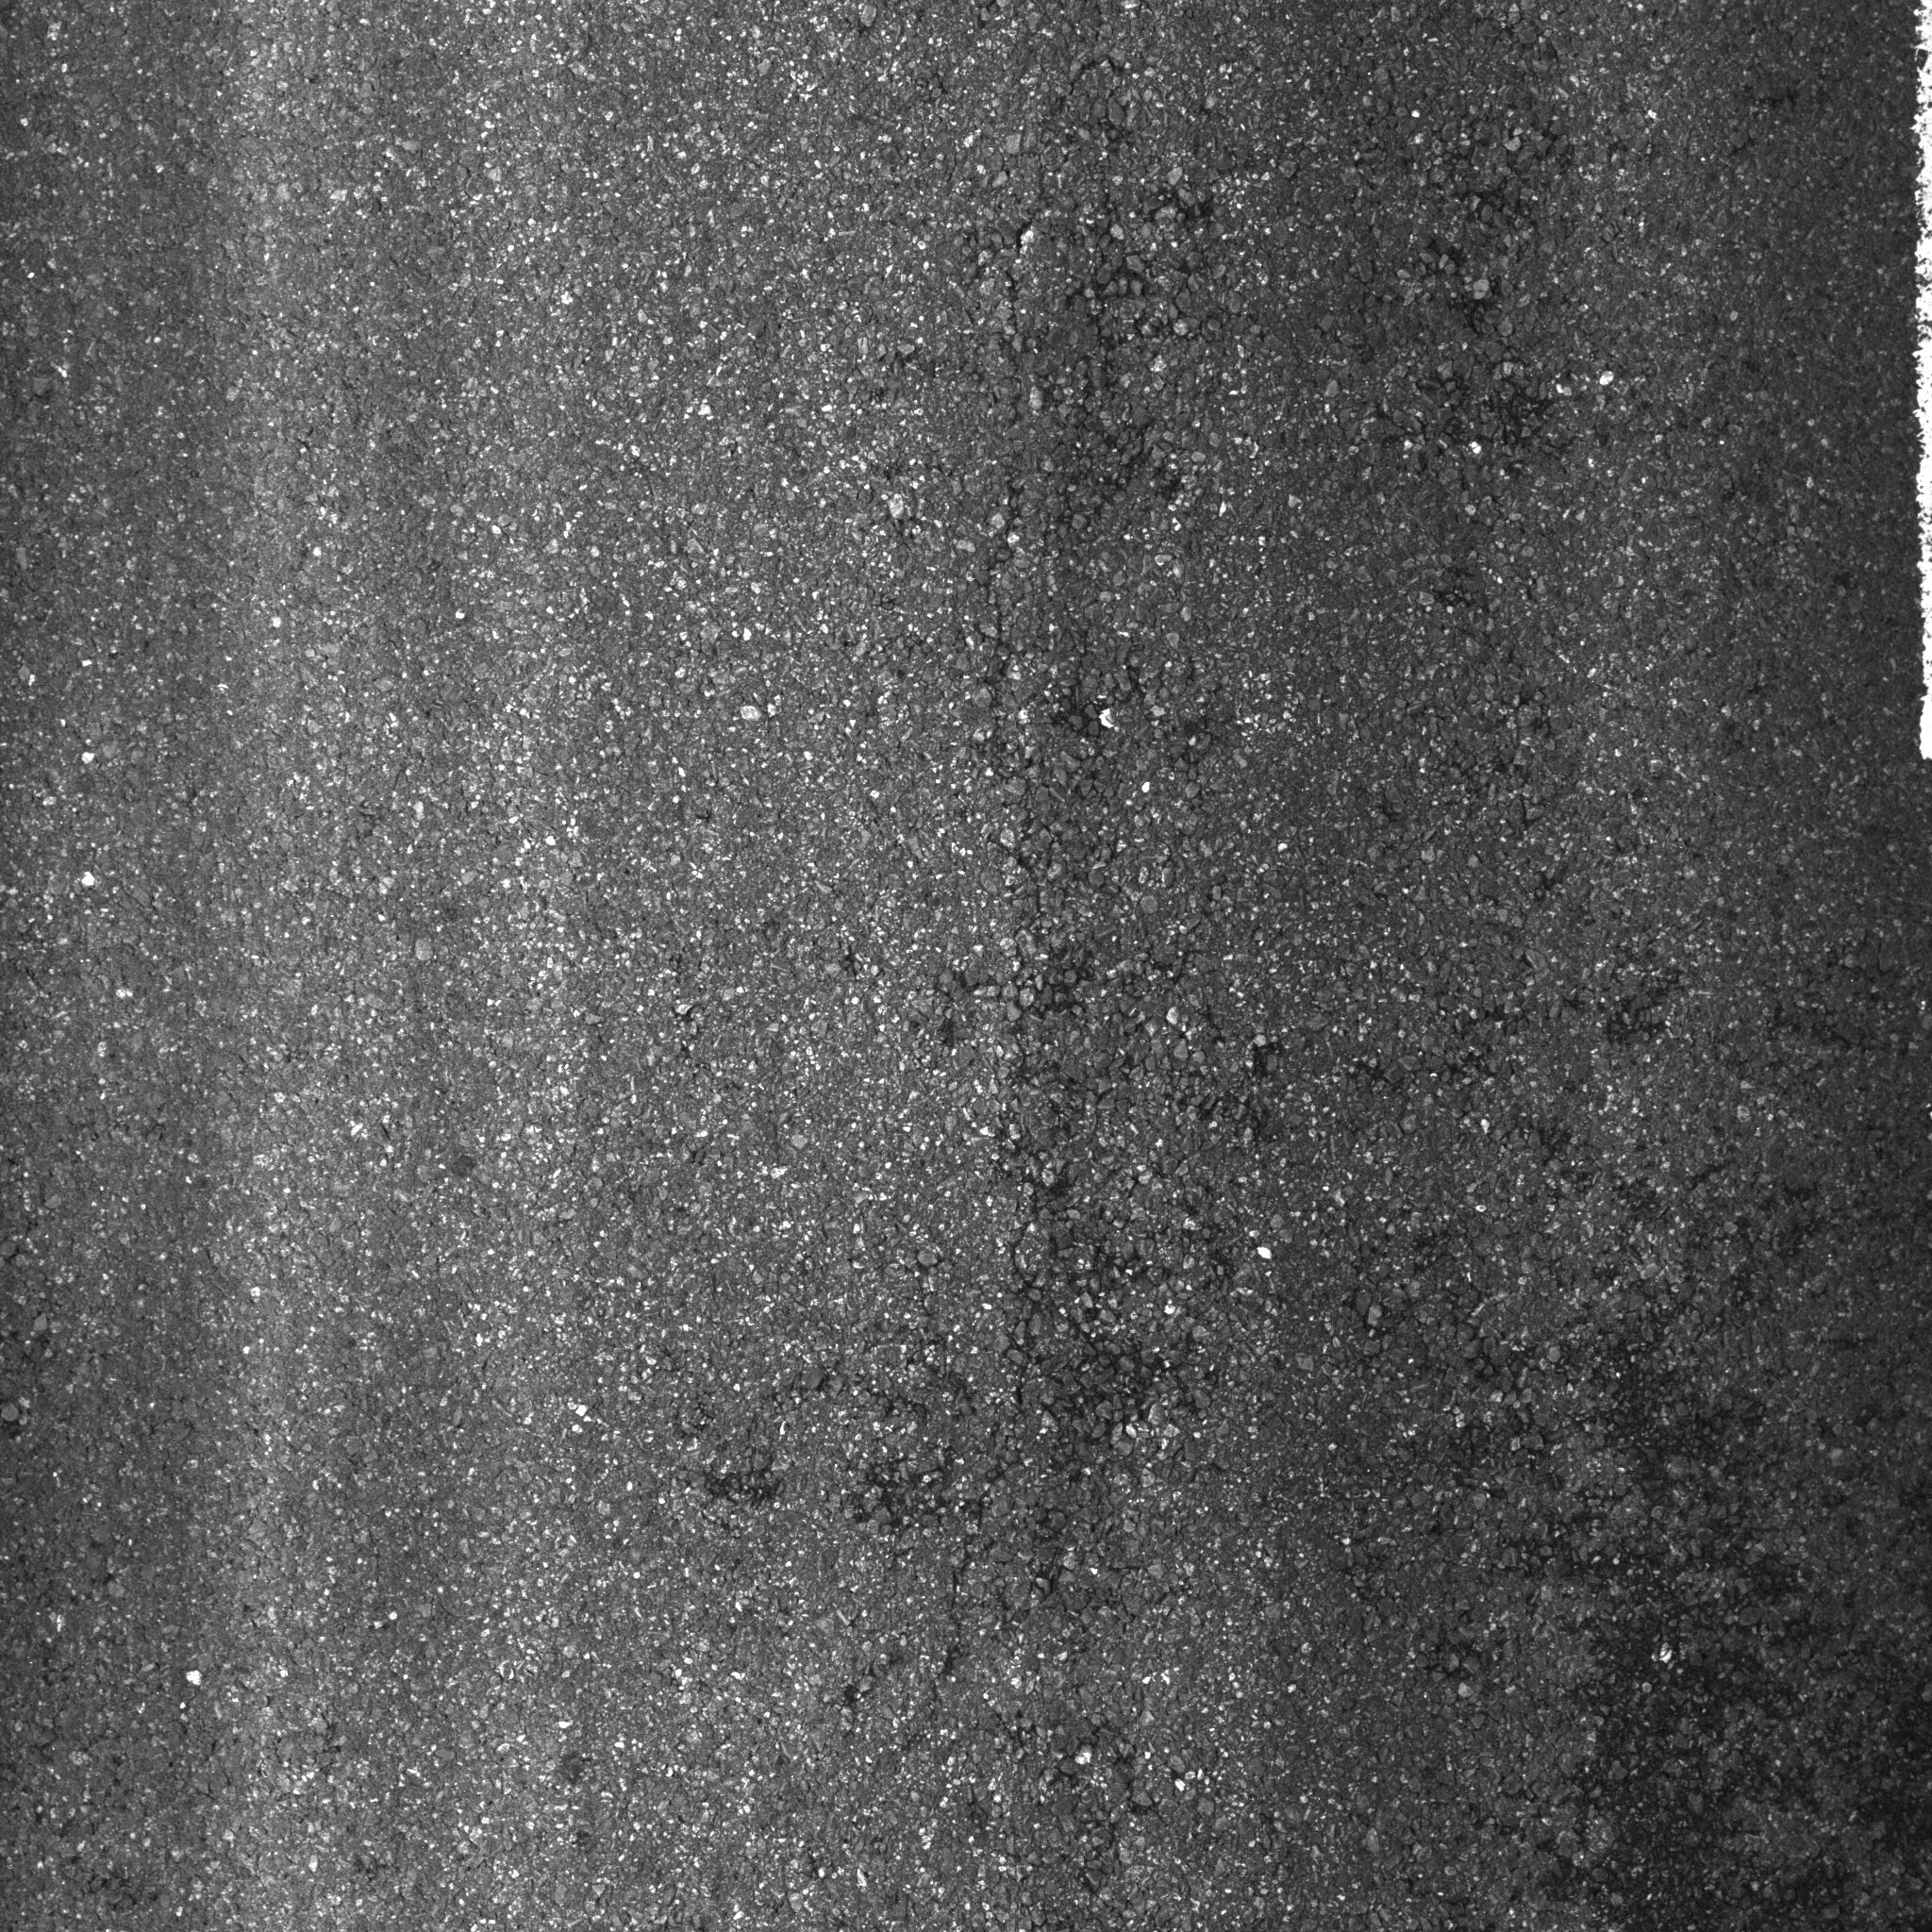longitudinal: (925, 111, 1113, 1691)
